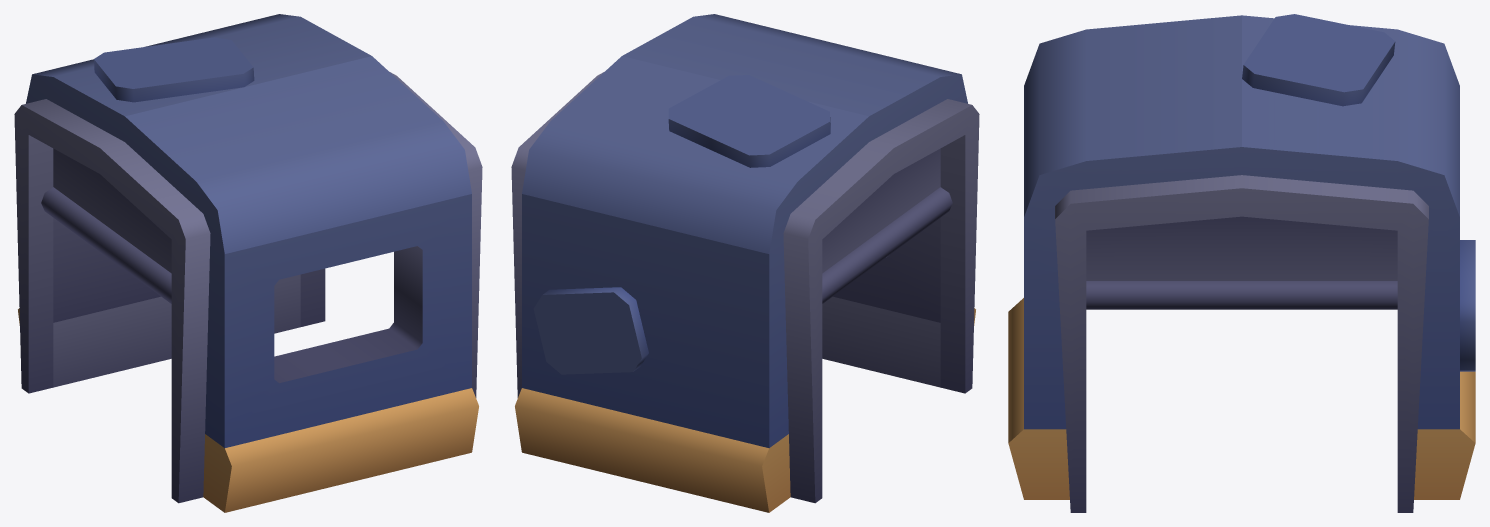
The model's file is machine.glb.
The picture shows the model from 3 angles, left to right: view 1: azimuth 30°, elevation 25°; view 2: azimuth 150°, elevation 25°; view 3: azimuth 270°, elevation 25°; orthographic projection. The views are drawn at different scales.
Visible parts, largest first — view 1: machine; view 2: machine; view 3: machine.
Part boxes in pixels (left/top/right/bottom): machine: left=14, top=14, right=482, bottom=512; machine: left=511, top=14, right=979, bottom=512; machine: left=1008, top=14, right=1475, bottom=512.
Size of the model in its own units: 1.2 by 1.3 by 1.5.
